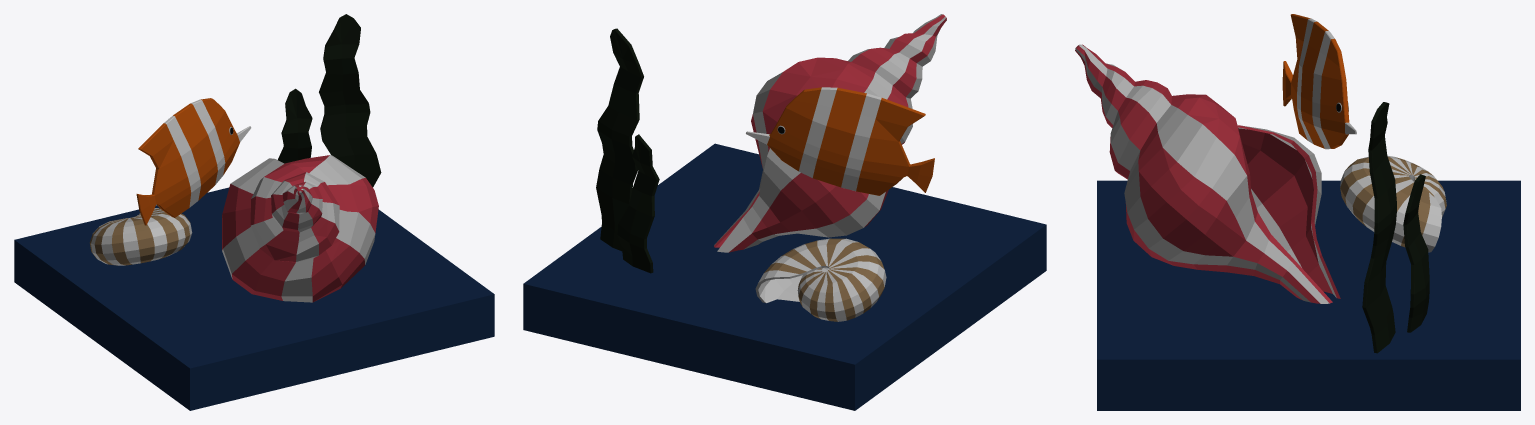
File: W_O_Playground_SeaSymbolic_001_L0.fbx
3 views of the same model, side by side, from view 1: azimuth 30°, elevation 25°; view 2: azimuth 150°, elevation 25°; view 3: azimuth 270°, elevation 25° (orthographic). The views are drawn at different scales.
Parts seen in each view (by area): view 1: W_O_Playground_SeaSymbolic_001_L0; view 2: W_O_Playground_SeaSymbolic_001_L0; view 3: W_O_Playground_SeaSymbolic_001_L0.
Boxes of the visible parts, bbox=[...] form: W_O_Playground_SeaSymbolic_001_L0: bbox=[14, 14, 494, 410]; W_O_Playground_SeaSymbolic_001_L0: bbox=[523, 14, 1046, 410]; W_O_Playground_SeaSymbolic_001_L0: bbox=[1075, 14, 1520, 410].
Bounding box in the file's own units: 2 × 1.52 × 2.1.
